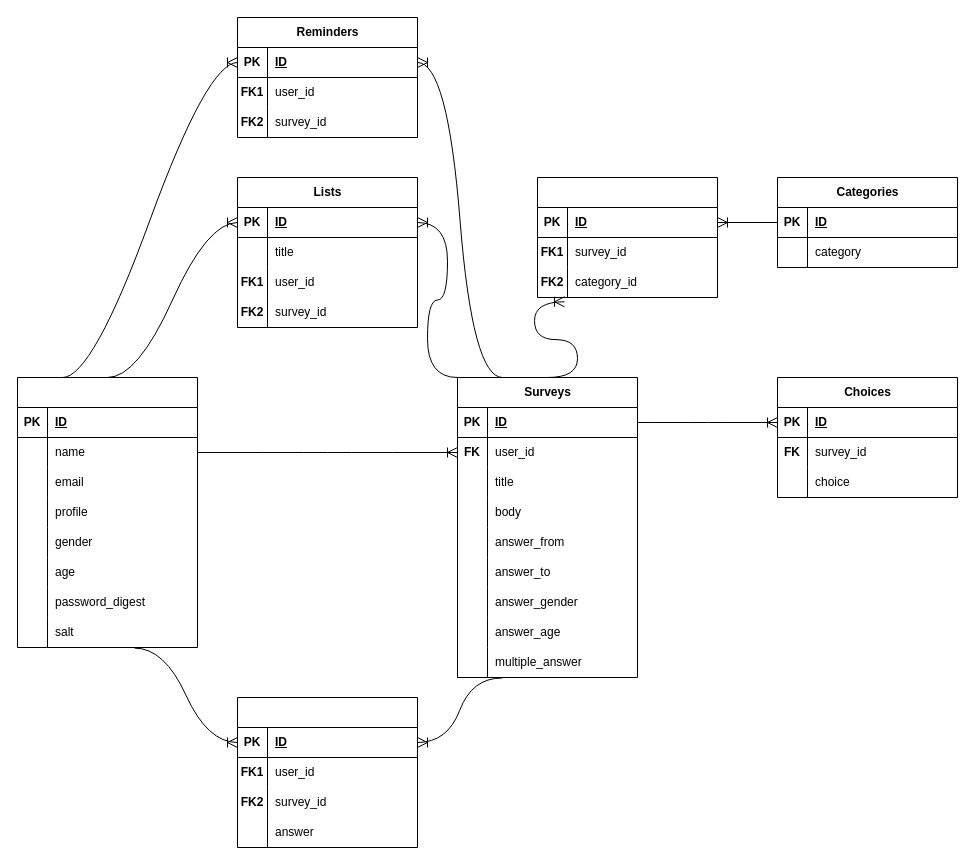
This 975x865 diagram has some shape labels left out. Here are the shapes that lost their labels. From the top down, the box of each, then its label:
(536, 176, 718, 298): Survey_categories
(16, 376, 198, 648): Users
(236, 696, 418, 848): Answers
